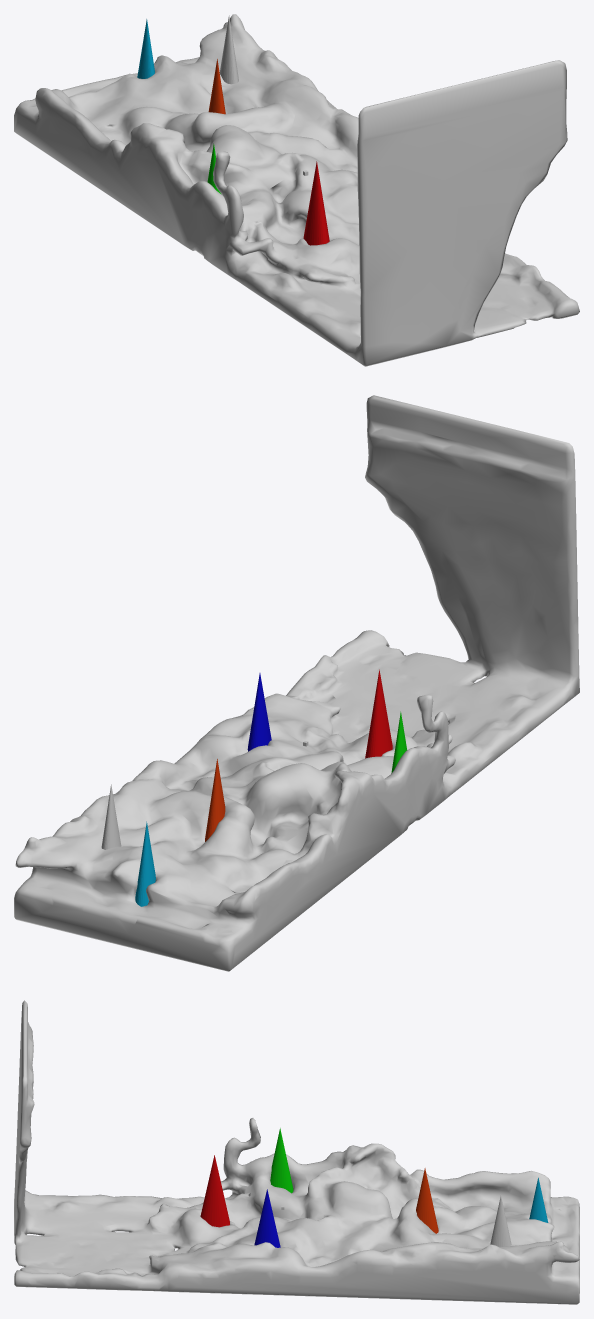
3 views of the same model, one above another, from view 1: azimuth 30°, elevation 25°; view 2: azimuth 150°, elevation 25°; view 3: azimuth 270°, elevation 25° (orthographic). The views are drawn at different scales.
Visible parts, largest first — view 1: Liquid_Domain, 円錐.001, 円錐, 円錐.005, 円錐.004; view 2: Liquid_Domain, 円錐.001, 円錐.002, 円錐.005, 円錐.004; view 3: Liquid_Domain, 円錐.001, 円錐.003, 円錐.002, 円錐.004, 円錐, 円錐.005.
Part boxes in pixels (x1,y1,x2,y2): Liquid_Domain: [14, 14, 579, 366]; 円錐.001: [303, 161, 329, 245]; 円錐: [219, 15, 238, 84]; 円錐.005: [137, 19, 154, 78]; 円錐.004: [208, 59, 225, 114]; Liquid_Domain: [14, 395, 579, 971]; 円錐.001: [365, 669, 392, 758]; 円錐.002: [247, 673, 271, 751]; 円錐.005: [135, 821, 155, 906]; 円錐.004: [205, 759, 225, 841]; Liquid_Domain: [14, 1000, 579, 1304]; 円錐.001: [200, 1155, 229, 1227]; 円錐.003: [270, 1128, 293, 1193]; 円錐.002: [254, 1189, 280, 1247]; 円錐.004: [416, 1168, 438, 1233]; 円錐: [490, 1196, 511, 1246]; 円錐.005: [529, 1177, 548, 1222].
Bounding box in the file's own units: 129 × 158 × 361.
